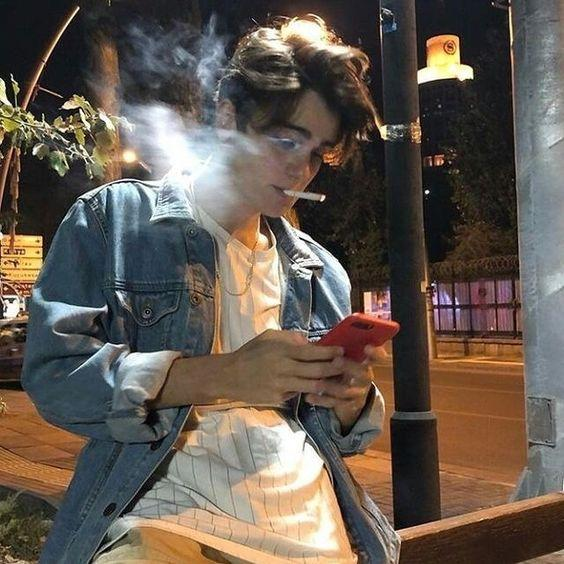cigarette: (282, 189, 326, 202)
